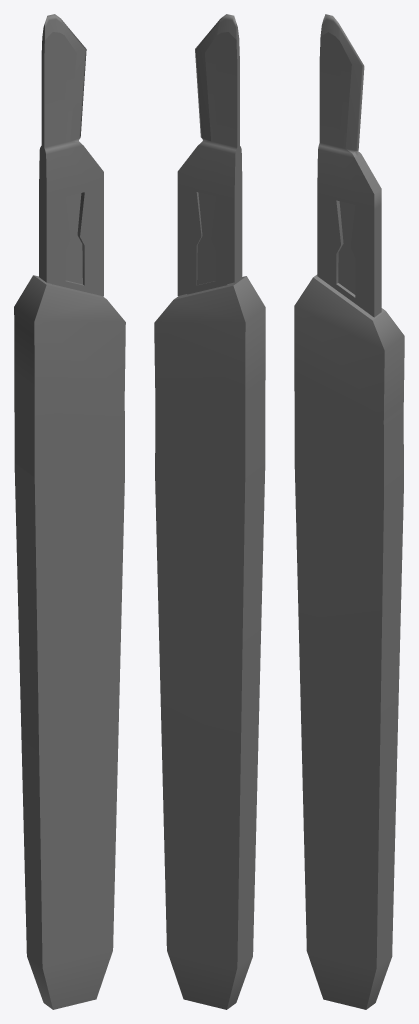
Rendered from Scalpel_Model.fbx.
3 views of the same model, side by side, from view 1: azimuth 30°, elevation 25°; view 2: azimuth 150°, elevation 25°; view 3: azimuth 330°, elevation 25° (orthographic).
Parts seen in each view (by area): view 1: pCube1, pCube2; view 2: pCube1, pCube2; view 3: pCube1, pCube2.
Part boxes in pixels (x1,y1,x2,y2): pCube1: (14,193,125,1009); pCube2: (39,14,103,296); pCube1: (154,192,265,1009); pCube2: (177,14,242,295); pCube1: (294,201,404,1009); pCube2: (317,14,381,317).
Bounding box in the file's own units: 1.3 × 13.47 × 0.5.
